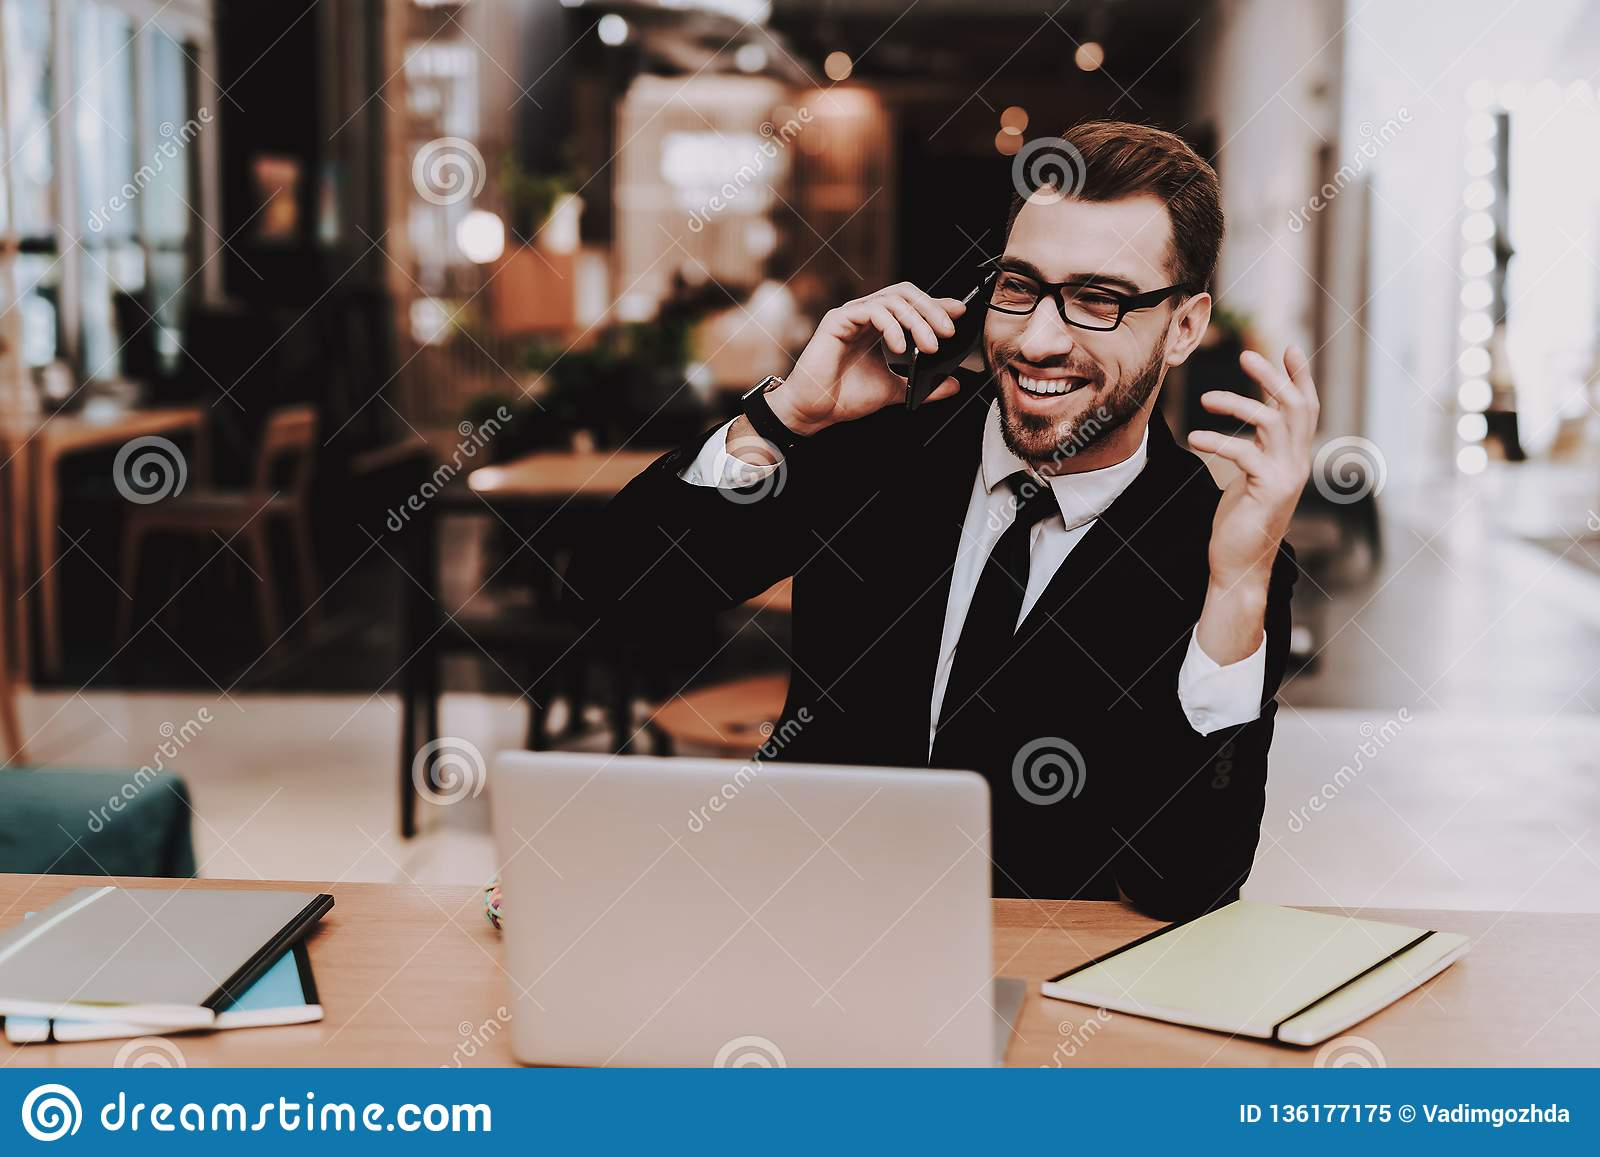phone: (906, 261, 993, 415)
talk: (794, 249, 1153, 435)
